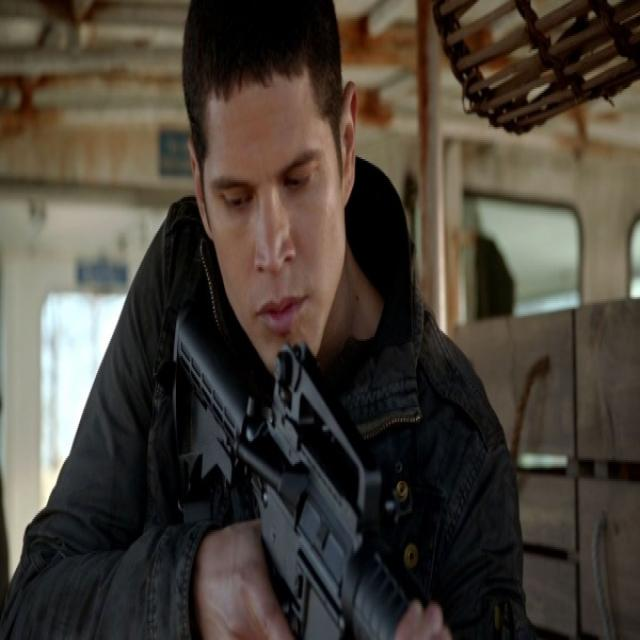rifle: (168, 313, 414, 640)
